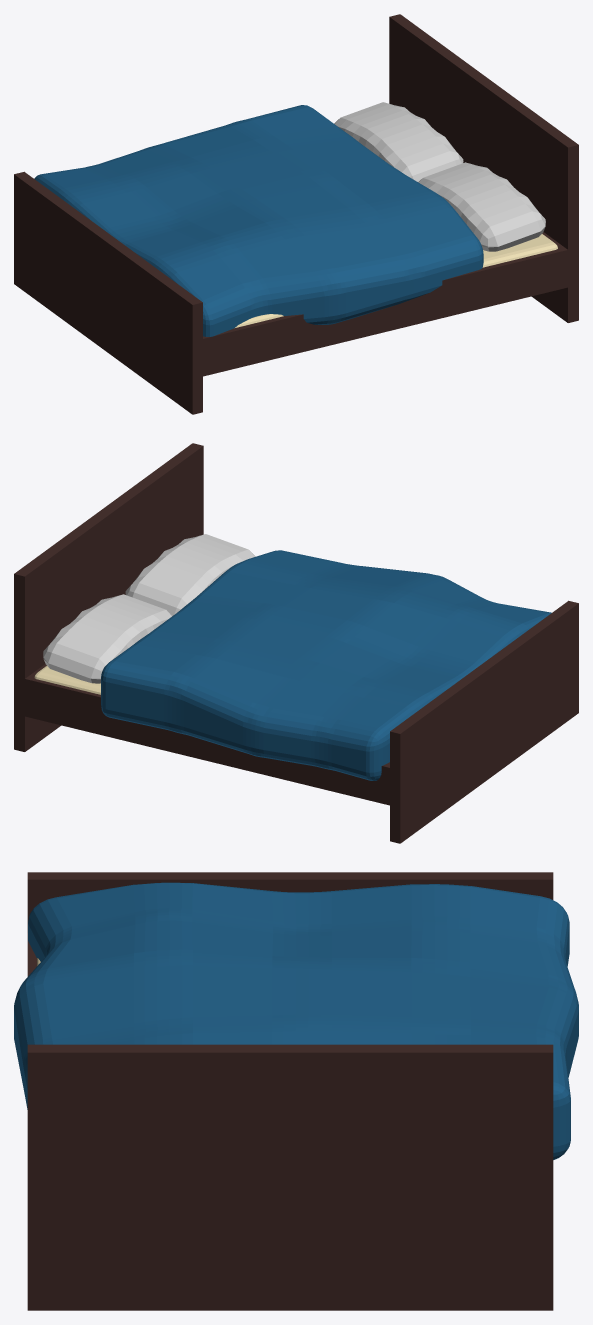
File: Lit-Double.fbx
3 views of the same model, one above another, from view 1: azimuth 30°, elevation 25°; view 2: azimuth 150°, elevation 25°; view 3: azimuth 270°, elevation 25° (orthographic). The views are drawn at different scales.
Parts seen in each view (by area): view 1: Cube.013, Cube.017, Cube.016, Cube.014, Cube.015; view 2: Cube.013, Cube.017, Cube.014, Cube.016, Cube.015; view 3: Cube.017, Cube.013.
Boxes of the visible parts, x1=… form: Cube.013: x1=34, y1=105, x2=483, y2=336; Cube.017: x1=14, y1=14, x2=578, y2=414; Cube.016: x1=418, y1=162, x2=545, y2=251; Cube.014: x1=334, y1=102, x2=463, y2=181; Cube.015: x1=235, y1=234, x2=557, y2=327; Cube.013: x1=101, y1=550, x2=551, y2=780; Cube.017: x1=14, y1=443, x2=578, y2=843; Cube.014: x1=43, y1=594, x2=172, y2=683; Cube.016: x1=125, y1=534, x2=255, y2=615; Cube.015: x1=34, y1=666, x2=100, y2=694; Cube.017: x1=27, y1=872, x2=553, y2=1310; Cube.013: x1=14, y1=882, x2=578, y2=1159.
Bounding box in the file's own units: 624 × 271 × 538.
